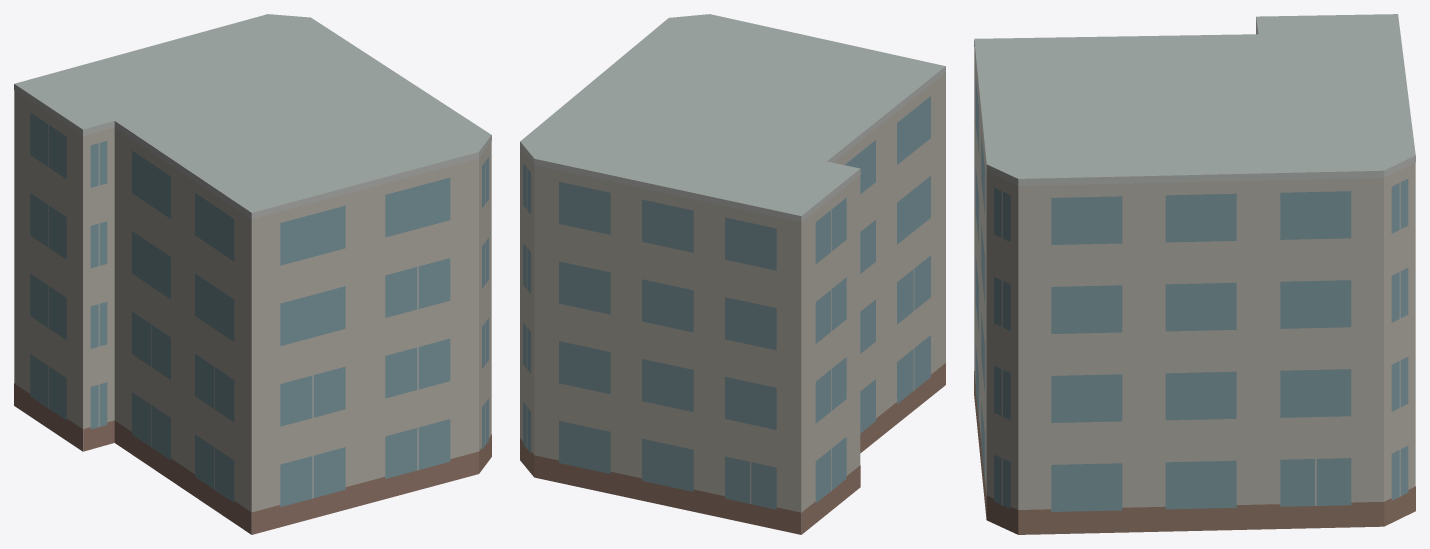
Rendered from survey-upis-32668293.glb.
3 views of the same model, side by side, from view 1: azimuth 30°, elevation 25°; view 2: azimuth 150°, elevation 25°; view 3: azimuth 270°, elevation 25° (orthographic). The views are drawn at different scales.
Visible parts, largest first — view 1: survey-upis-32668293.tmp; view 2: survey-upis-32668293.tmp; view 3: survey-upis-32668293.tmp.
Part boxes in pixels (x1,y1,x2,y2): survey-upis-32668293.tmp: (14,14,491,534); survey-upis-32668293.tmp: (520,14,945,534); survey-upis-32668293.tmp: (974,14,1415,534).
Size of the model in its own units: 12.14 by 12.2 by 13.73.
